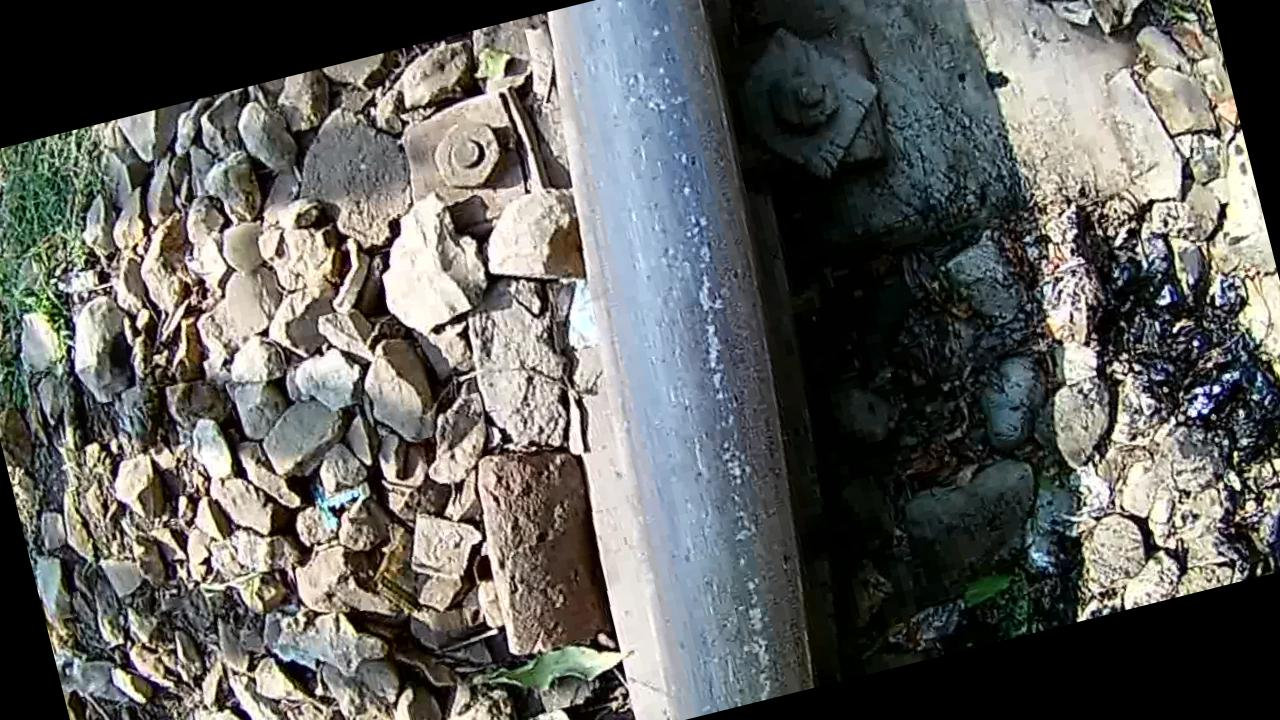clip_missing: (508, 0, 882, 720)
